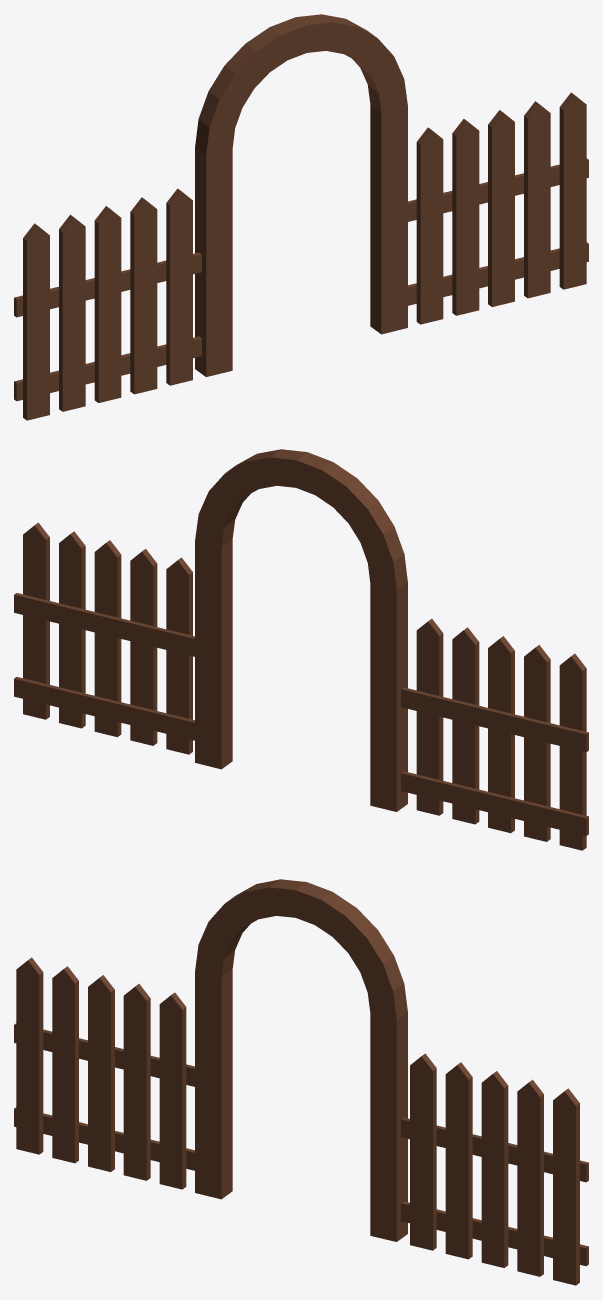
The model's file is Fence_Straight_Gate.fbx.
3 views of the same model, one above another, from view 1: azimuth 30°, elevation 25°; view 2: azimuth 150°, elevation 25°; view 3: azimuth 330°, elevation 25° (orthographic).
Visible parts, largest first — view 1: Fence_Straight_Gate; view 2: Fence_Straight_Gate; view 3: Fence_Straight_Gate.
Boxes of the visible parts, left/top/right/bottom form: Fence_Straight_Gate: left=14, top=14, right=588, bottom=420; Fence_Straight_Gate: left=14, top=449, right=588, bottom=850; Fence_Straight_Gate: left=14, top=879, right=588, bottom=1285.
Size of the model in its own units: 1 by 0.5467 by 0.0336.
